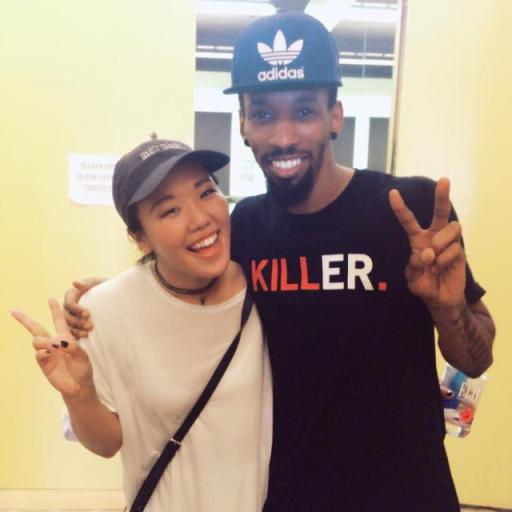Adidas: (254, 27, 306, 83)
